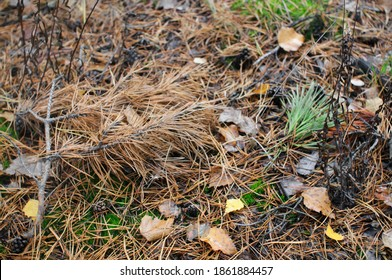Pc: (7, 235, 28, 252), (92, 200, 107, 214)
